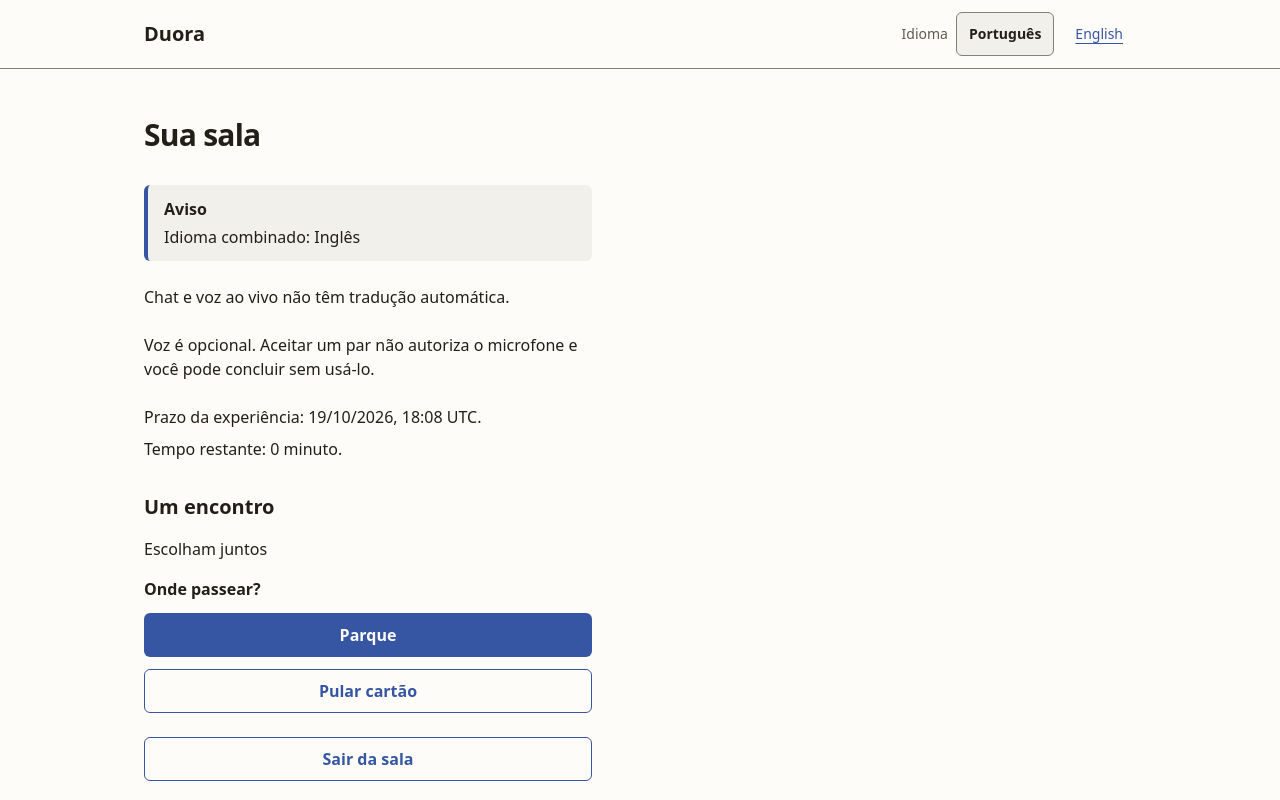
Test: localized room › displays agreed language and completes by text without requesting a microphone
This screenshot has width=1280, height=800.
Check: the text "Idioma combinado: Inglês" is shown, box x1=164 y1=226 x2=360 y2=248
Check: the text "Chat e voz ao vivo não têm tradução automática." is shown, box x1=144 y1=286 x2=510 y2=308
Click the button "Parque". click: (368, 635)
box: x1=144 y1=613 x2=592 y2=657
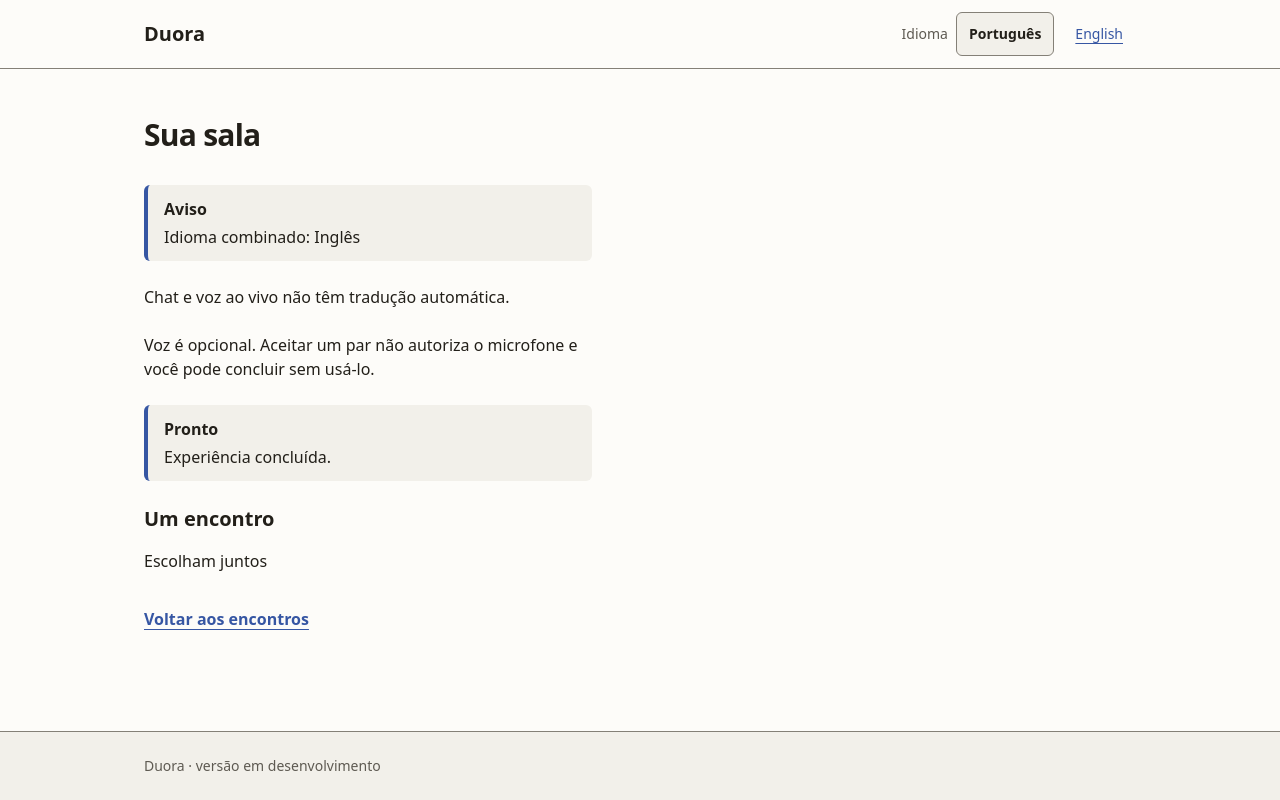
Check: the text "Experiência concluída." is shown, box x1=164 y1=446 x2=331 y2=468
